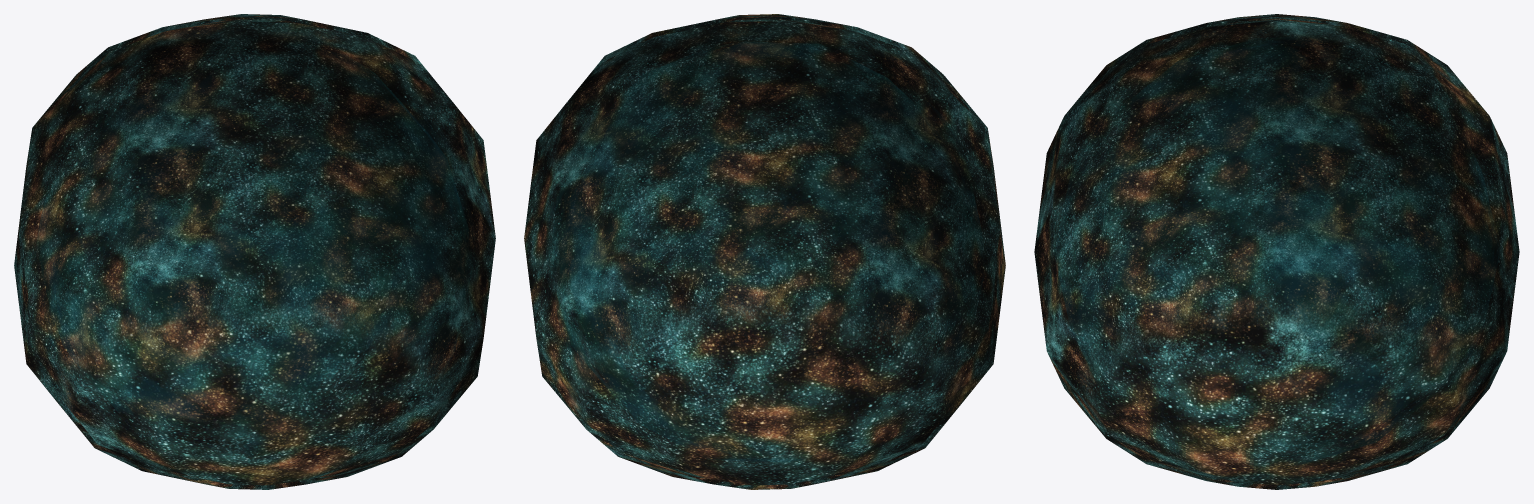
Rendered from SpaceSkybox.gltf.
3 renders of one model, left to right at view 1: azimuth 30°, elevation 25°; view 2: azimuth 150°, elevation 25°; view 3: azimuth 270°, elevation 25°, orthographic.
Parts seen in each view (by area): view 1: SpaceSky, SpaceSkyBlend, SpaceFog2, SpaceFog; view 2: SpaceSky, SpaceSkyBlend, SpaceFog, SpaceFog2; view 3: SpaceSky, SpaceSkyBlend, SpaceFog2, SpaceFog.
Part boxes in pixels (<box>): SpaceSky: <box>14,14,495,489</box>; SpaceSkyBlend: <box>56,18,453,485</box>; SpaceFog2: <box>43,67,468,443</box>; SpaceFog: <box>36,69,471,369</box>; SpaceSky: <box>524,14,1005,489</box>; SpaceSkyBlend: <box>566,18,963,485</box>; SpaceFog: <box>546,80,981,375</box>; SpaceFog2: <box>554,41,928,462</box>; SpaceSky: <box>1034,14,1519,489</box>; SpaceSkyBlend: <box>1077,18,1476,485</box>; SpaceFog2: <box>1110,38,1465,464</box>; SpaceFog: <box>1054,78,1499,375</box>.
Size of the model in its own units: 4625 by 4400 by 4625.
2 materials, 2 textured.
